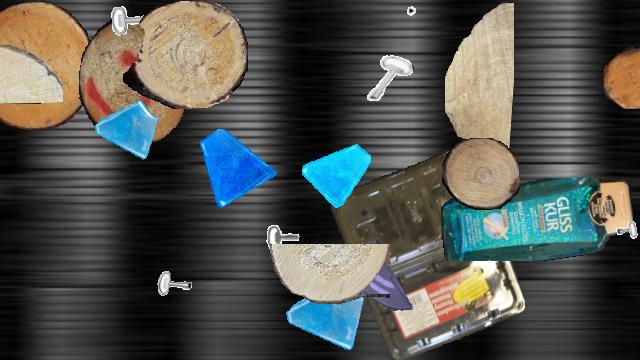glass: (284, 275, 368, 359), (197, 129, 277, 209), (338, 234, 418, 314), (93, 97, 161, 165), (302, 139, 370, 207)
metal: (105, 1, 165, 61), (151, 247, 203, 299), (363, 52, 413, 102), (264, 206, 310, 252), (406, 1, 446, 41), (607, 197, 640, 241)
plastic: (331, 149, 525, 359), (441, 178, 633, 260)
wood: (123, 1, 247, 109), (79, 20, 187, 142), (0, 1, 95, 129), (445, 1, 513, 159), (270, 244, 390, 304), (442, 138, 520, 210), (0, 45, 62, 103), (603, 47, 640, 109)
